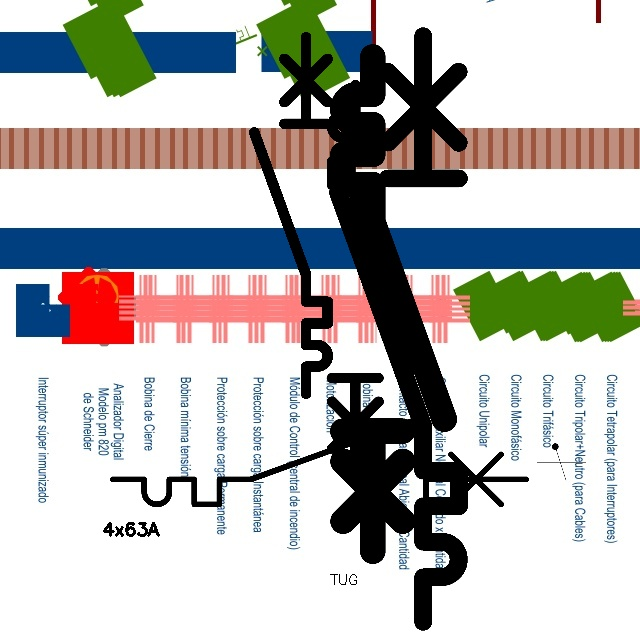interruptor_termomagnetico: (323, 21, 474, 637), (330, 44, 457, 564), (102, 409, 537, 515), (322, 75, 421, 482), (245, 28, 337, 403)
